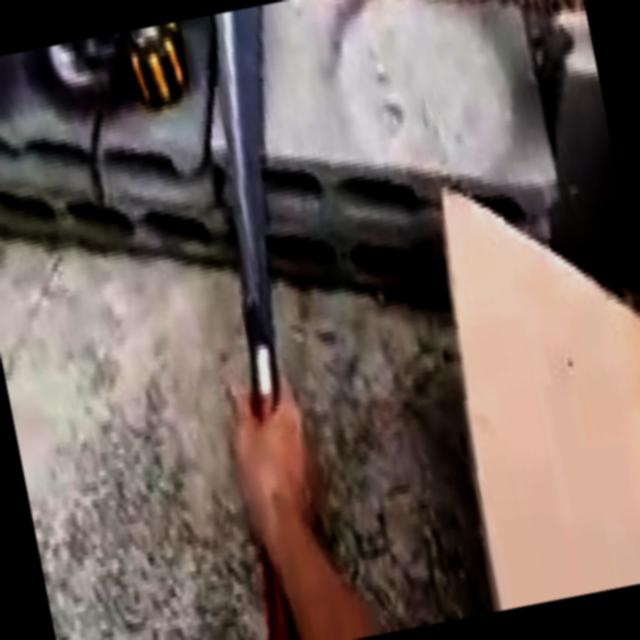eto: (216, 10, 293, 640)
